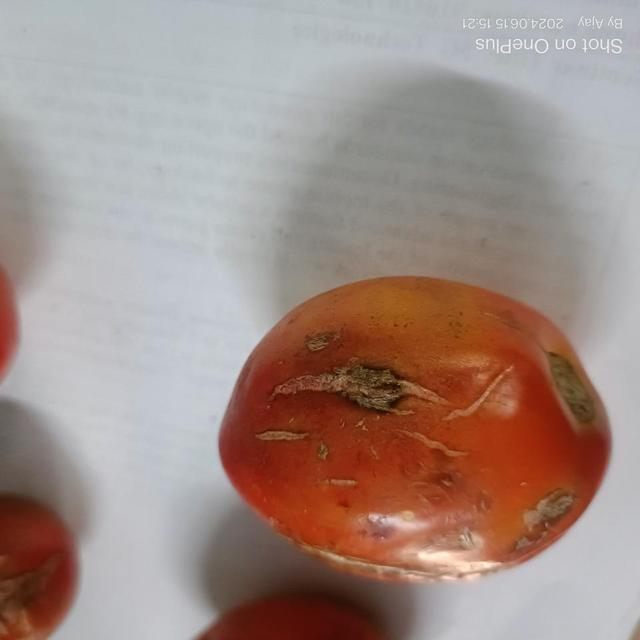Cracking Fruit: (222, 269, 343, 374)
